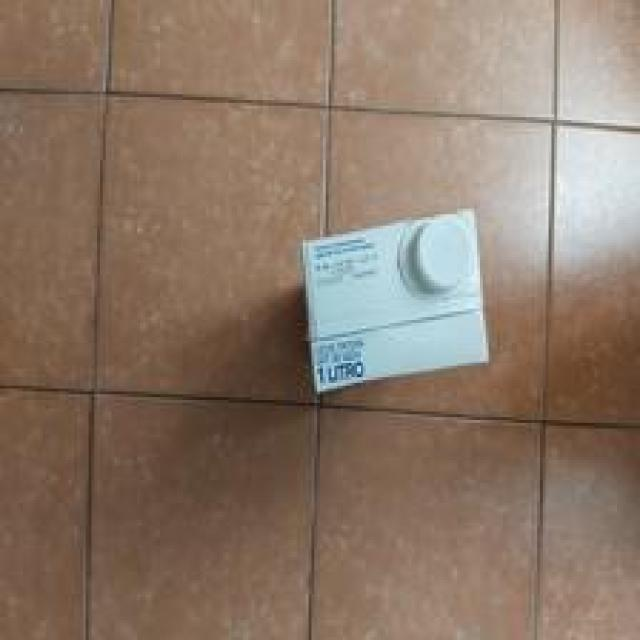PaperCardboard: (306, 206, 502, 405)
